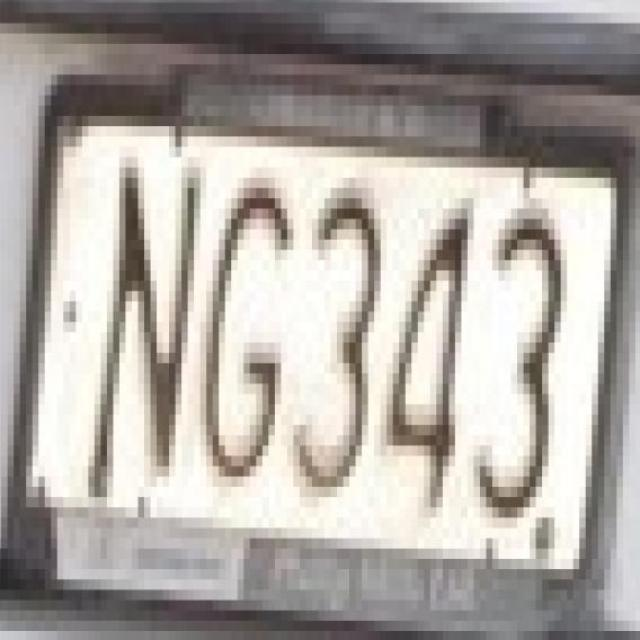license-plate: (6, 75, 619, 623)
